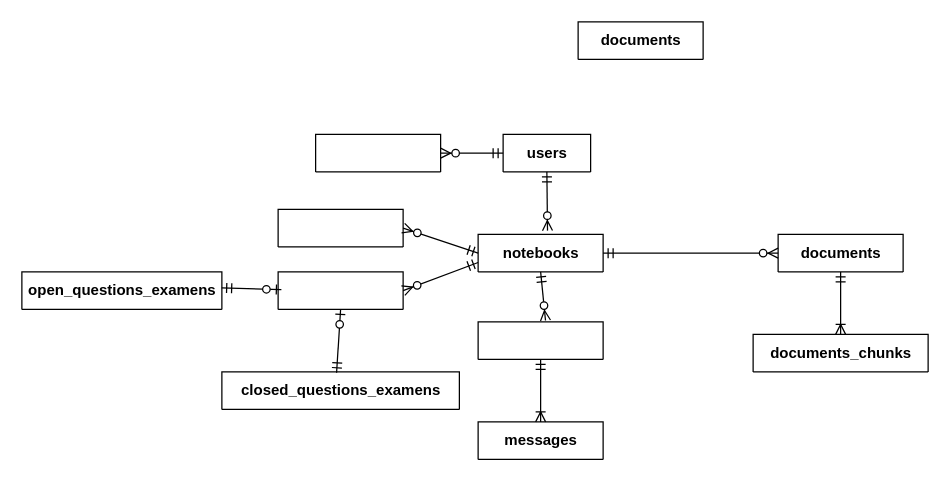
Image size: 950x481. Some labels were removed from this diagram. Here are the shapes that lost their labels. From the top down, the centre of each, then its label:
At (377,152): "stats".
At (340,227): "flashcards".
At (340,290): "examens".
At (540,340): "conversations".
